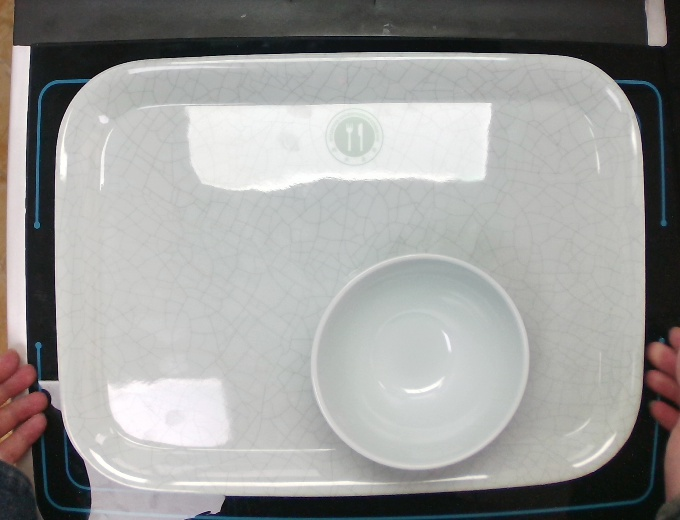JYsf-Fan_Wan: (306, 250, 533, 475)
